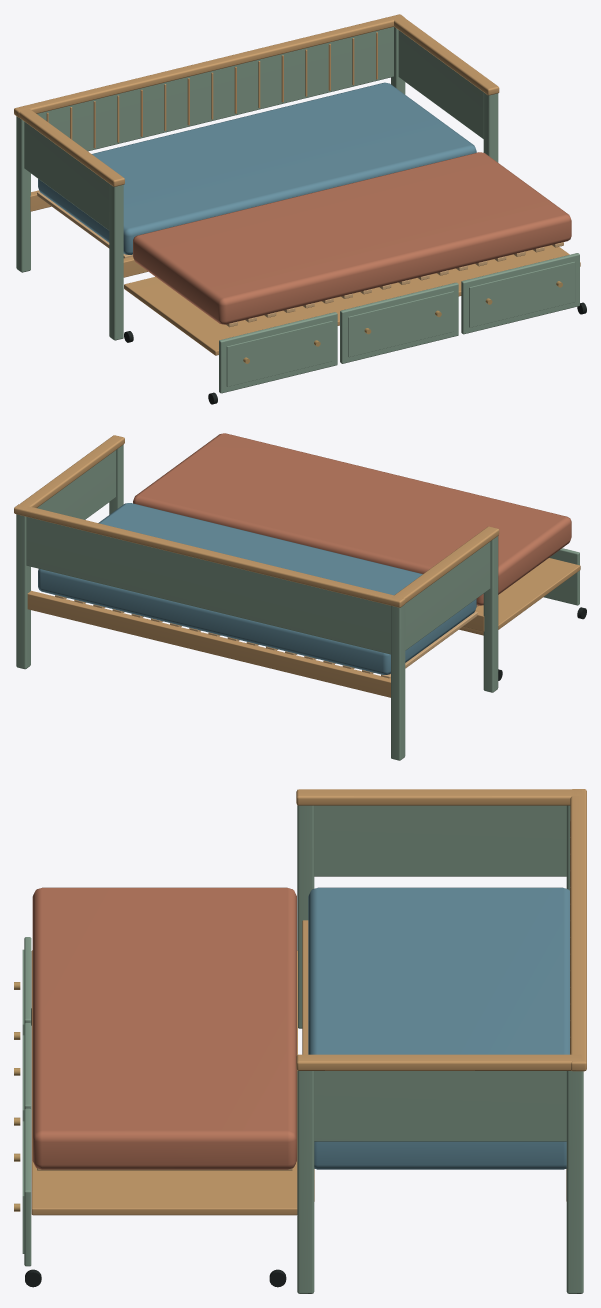
Rendered from expanding-daybed-wide.glb.
3 renders of one model, top to bottom at view 1: azimuth 30°, elevation 25°; view 2: azimuth 150°, elevation 25°; view 3: azimuth 270°, elevation 25°, orthographic. The views are drawn at different scales.
Visible parts, largest first — view 1: expanding-daybed-wide authored assembly; view 2: expanding-daybed-wide authored assembly; view 3: expanding-daybed-wide authored assembly.
Part boxes in pixels (bbox=[...]): expanding-daybed-wide authored assembly: bbox=[14, 14, 586, 404]; expanding-daybed-wide authored assembly: bbox=[14, 433, 586, 760]; expanding-daybed-wide authored assembly: bbox=[14, 789, 586, 1293].
Bounding box in the file's own units: 2.14 × 0.85 × 1.89.
